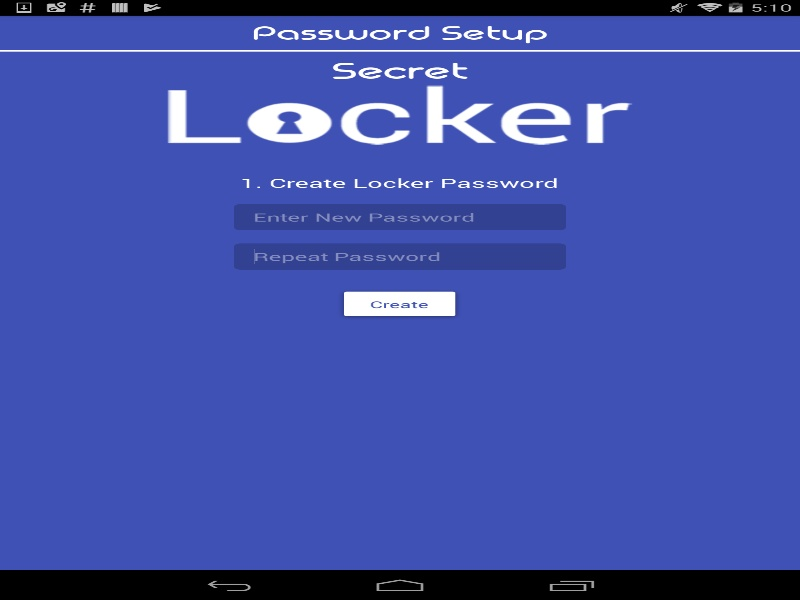Button: (336, 288, 462, 320)
Input: (233, 203, 566, 230), (233, 243, 566, 270)
